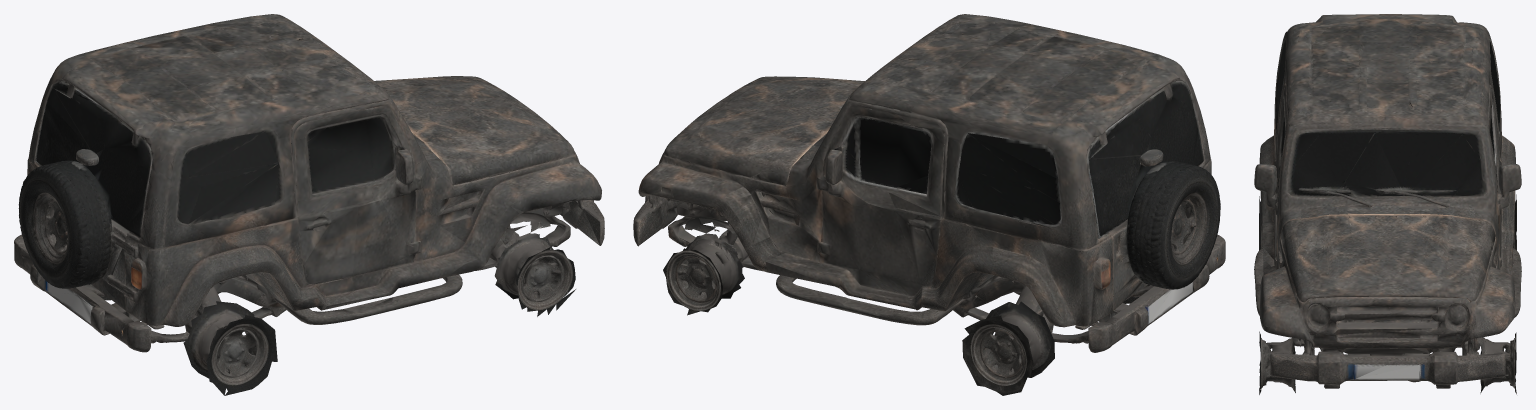
The model's file is trilheiro-queimado__01a16dcf.glb.
The picture shows the model from 3 angles, left to right: view 1: azimuth 30°, elevation 25°; view 2: azimuth 150°, elevation 25°; view 3: azimuth 270°, elevation 25°; orthographic projection. The views are drawn at different scales.
Visible parts, largest first — view 1: trilheiro-queimado; view 2: trilheiro-queimado; view 3: trilheiro-queimado.
Boxes of the visible parts, x1=… form: trilheiro-queimado: x1=14, y1=14, x2=604, y2=395; trilheiro-queimado: x1=633, y1=14, x2=1225, y2=395; trilheiro-queimado: x1=1254, y1=14, x2=1521, y2=394.
Bounding box in the file's own units: 3.95 × 1.95 × 2.06.
Materials: 1 (1 with a texture image).
